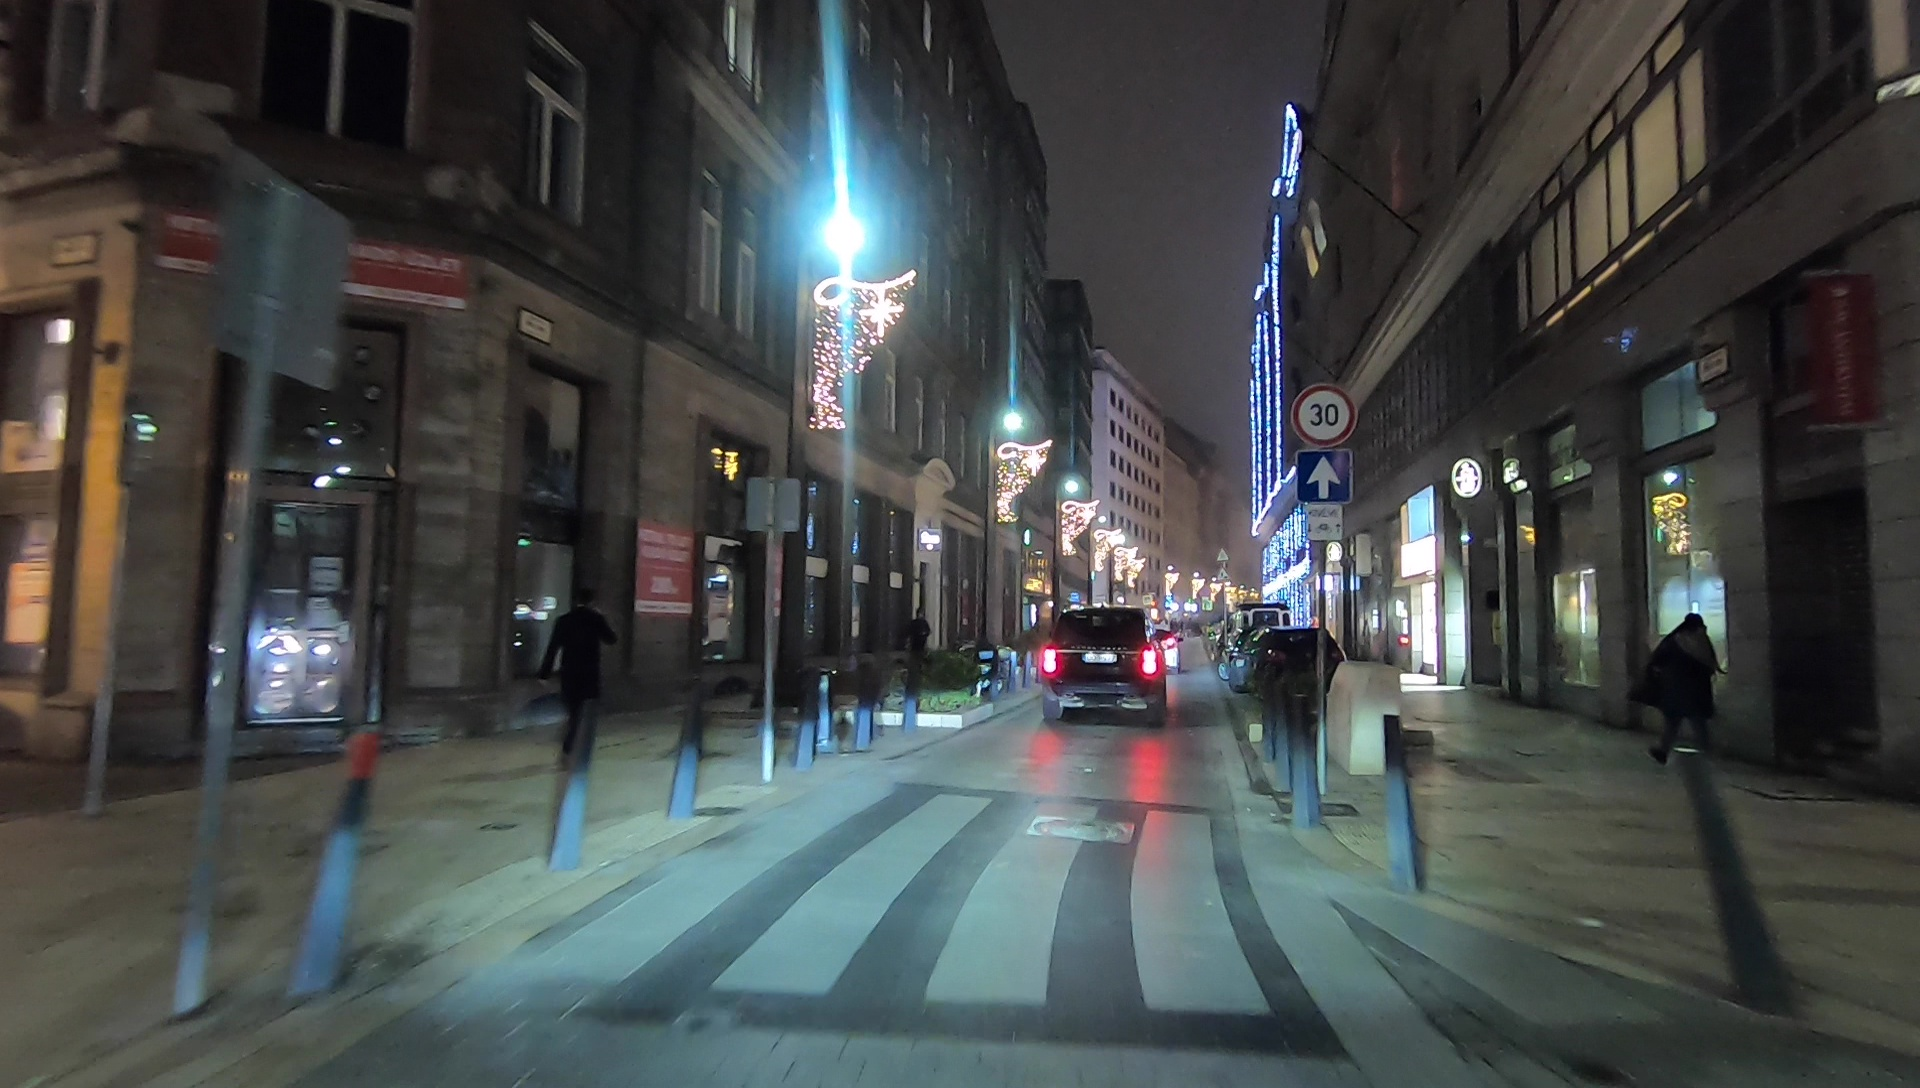person: (541, 589, 614, 765), (1643, 608, 1719, 773), (908, 610, 932, 671)
